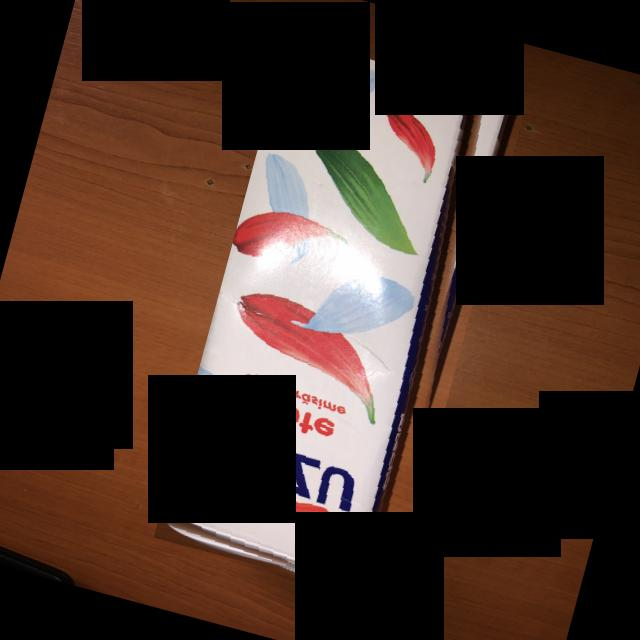milk: (154, 37, 526, 601)
